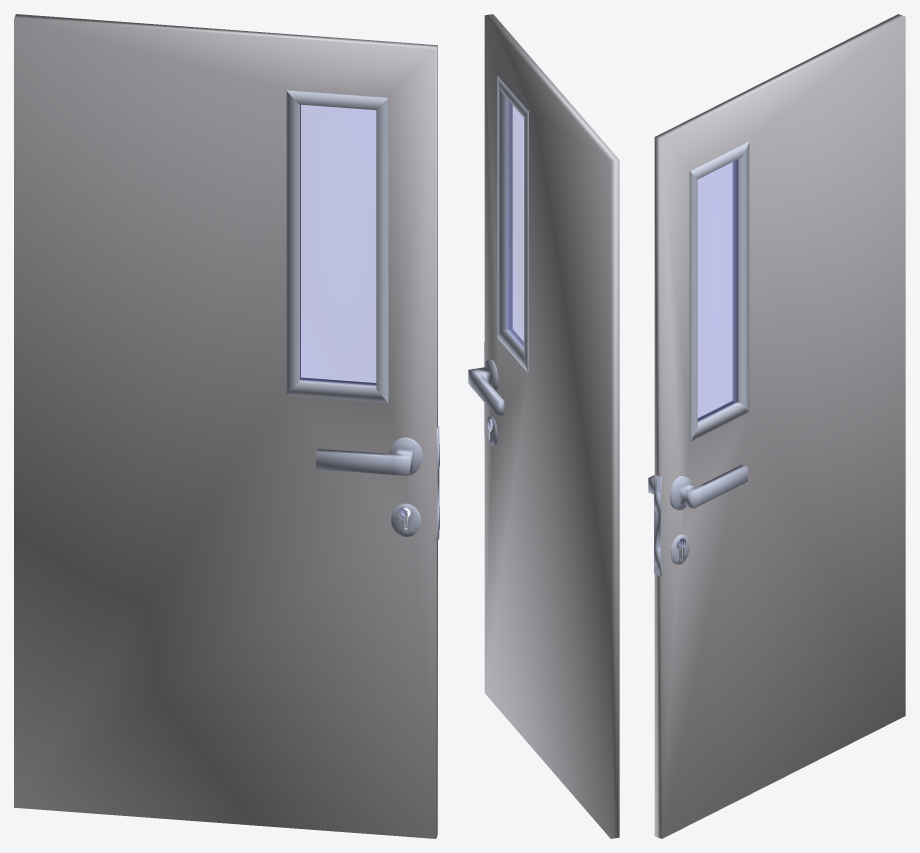
The model's file is kapı-son.fbx.
The picture shows the model from 3 angles, left to right: view 1: azimuth 30°, elevation 25°; view 2: azimuth 150°, elevation 25°; view 3: azimuth 270°, elevation 25°; orthographic projection. The views are drawn at different scales.
Visible parts, largest first — view 1: Door_Glasses_0.002; view 2: Door_Glasses_0.002; view 3: Door_Glasses_0.002.
Boxes of the visible parts, left/top/right/bottom form: Door_Glasses_0.002: left=14, top=14, right=439, bottom=838; Door_Glasses_0.002: left=468, top=14, right=619, bottom=838; Door_Glasses_0.002: left=648, top=14, right=905, bottom=838.
Bounding box in the file's own units: 167 × 433 × 145.
